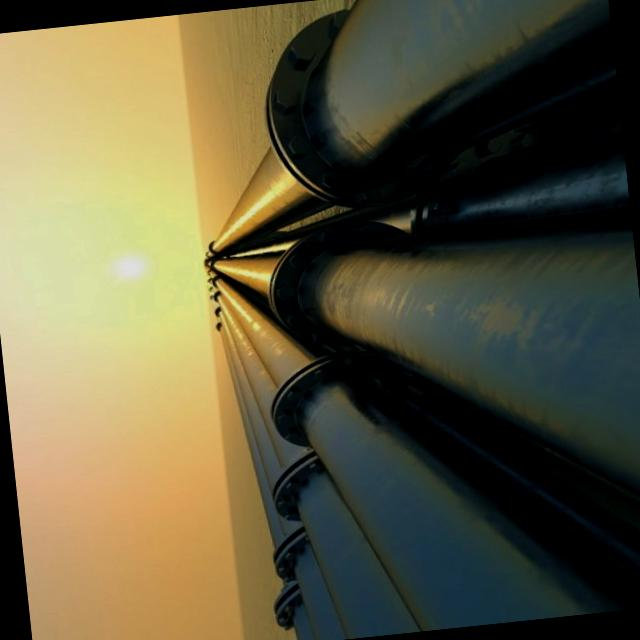gas: (210, 275, 640, 631), (202, 227, 640, 487), (202, 0, 614, 255), (215, 307, 416, 639), (223, 350, 343, 640)
